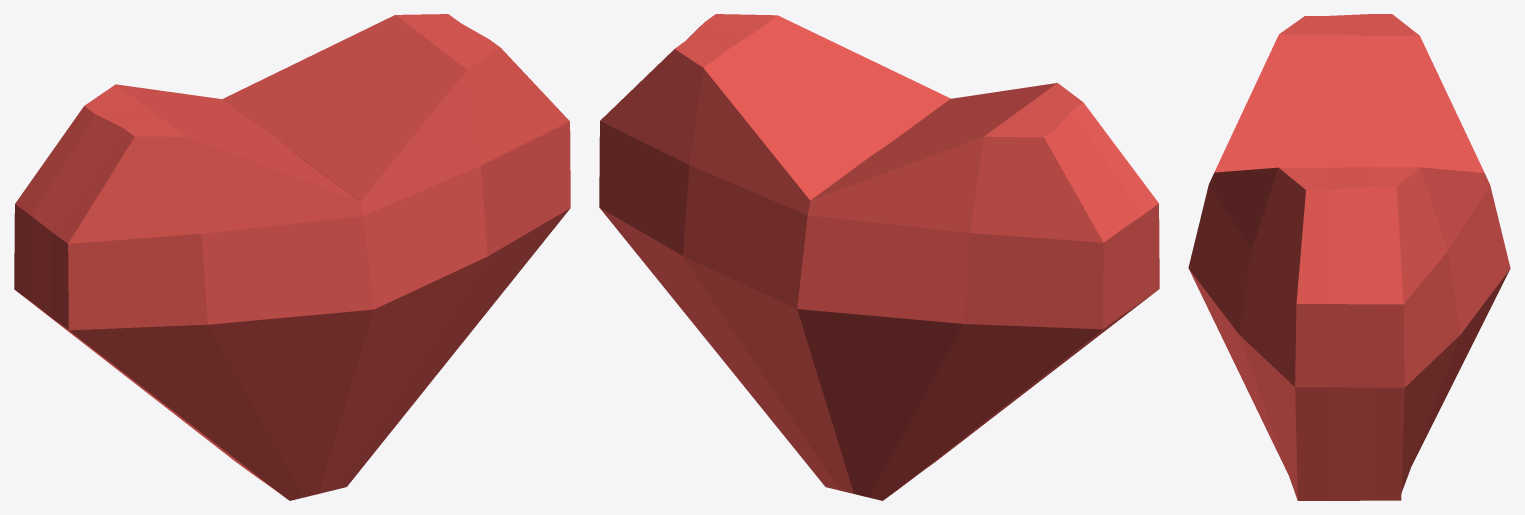
The model's file is Heart.fbx.
3 renders of one model, left to right at view 1: azimuth 30°, elevation 25°; view 2: azimuth 150°, elevation 25°; view 3: azimuth 270°, elevation 25°, orthographic. The views are drawn at different scales.
Visible parts, largest first — view 1: Cube.002; view 2: Cube.002; view 3: Cube.002.
Boxes of the visible parts, <box> form: Cube.002: <box>14,14,570,500</box>; Cube.002: <box>599,14,1159,500</box>; Cube.002: <box>1188,14,1510,500</box>.
Size of the model in its own units: 180 by 103 by 136.
